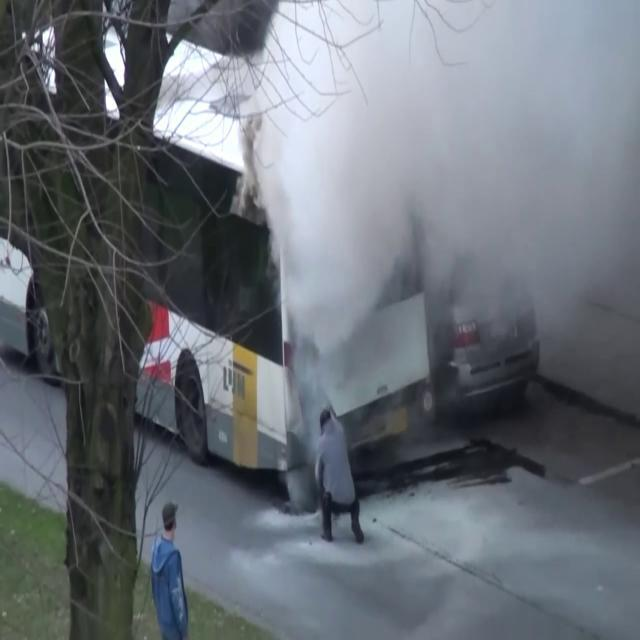Smoke: (231, 0, 640, 426)
